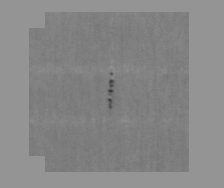oxl: (35, 10, 189, 178)
